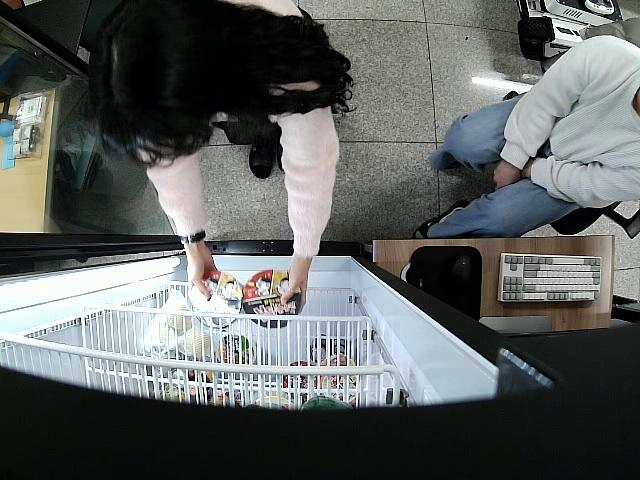00_hand: (184, 247, 217, 303), (279, 258, 309, 317)
07_buldak_L: (244, 269, 302, 328), (191, 271, 243, 330)
